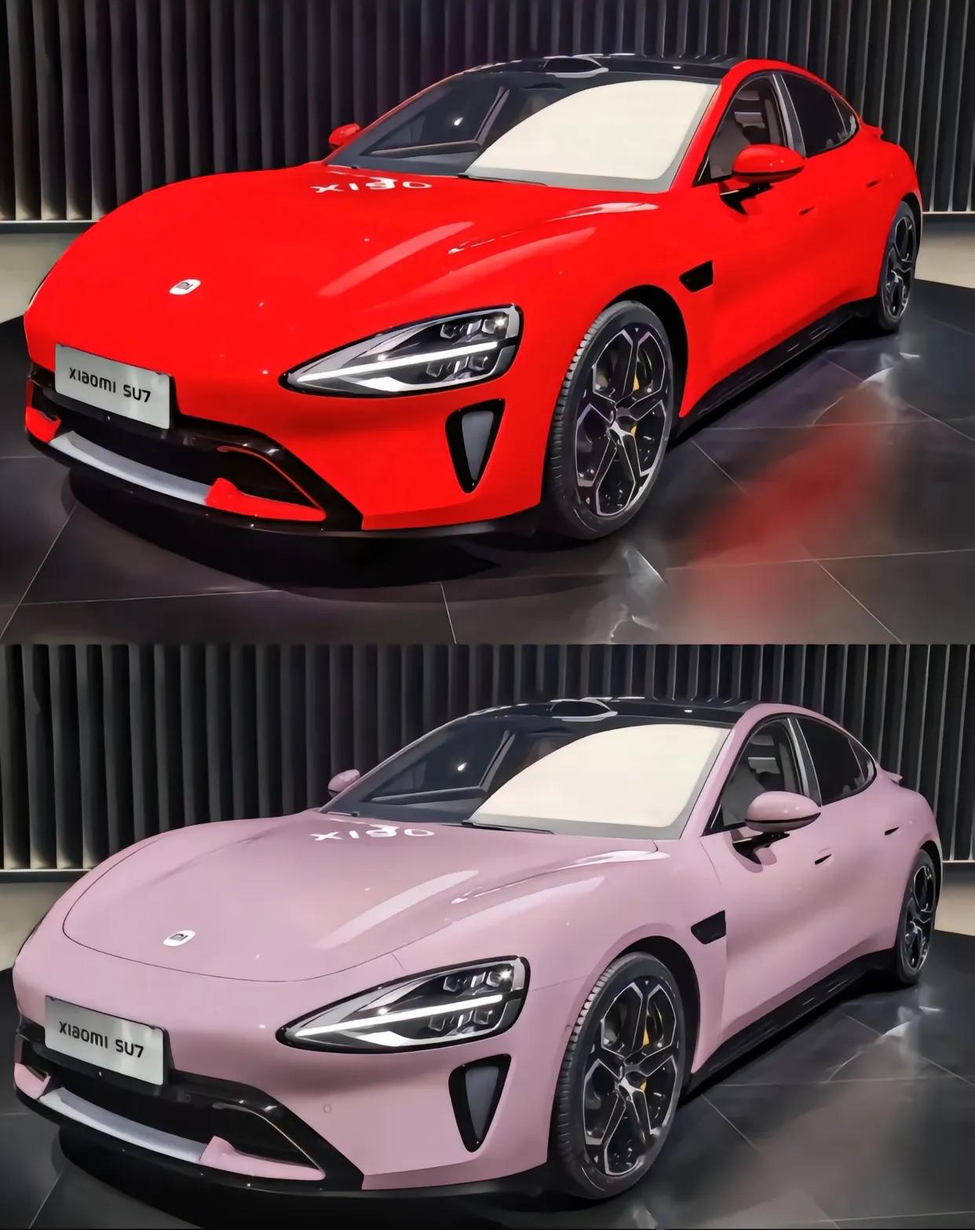su7: (9, 688, 944, 1208), (27, 50, 925, 536)
